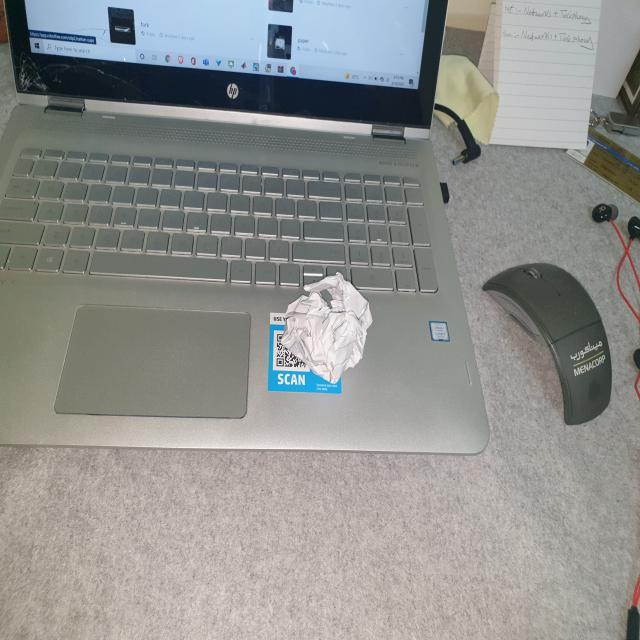Paper: (284, 269, 374, 385)
